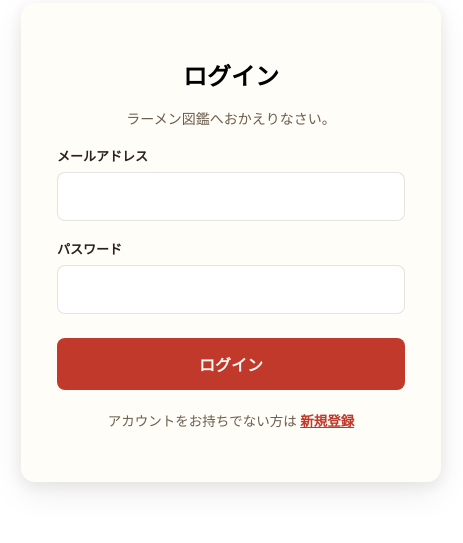
LoginPage › 認証に失敗するとエラーメッセージを表示する
Type "taro@example.com" into the field labelled "メールアドレス" at (231, 197), box top-left (57, 172), bottom-right (405, 221)
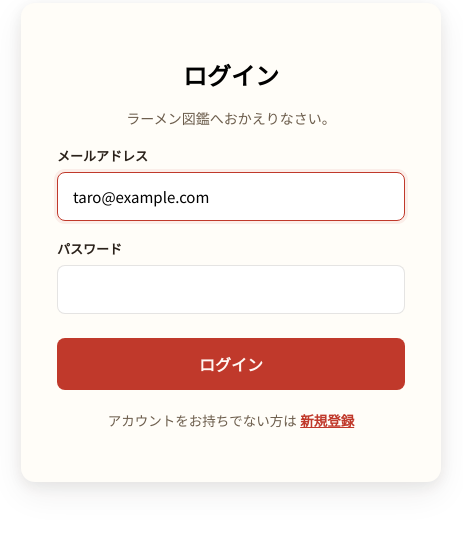
Type "wrong-pass" into the password field labelled "パスワード" at (231, 290), box top-left (57, 265), bottom-right (405, 314)
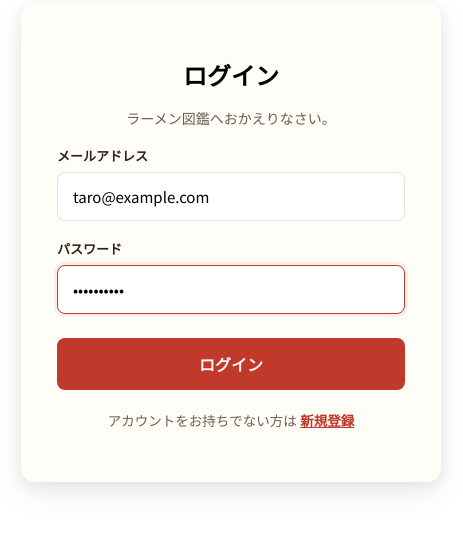
Click the button "ログイン" at (231, 364), box top-left (57, 338), bottom-right (405, 390)
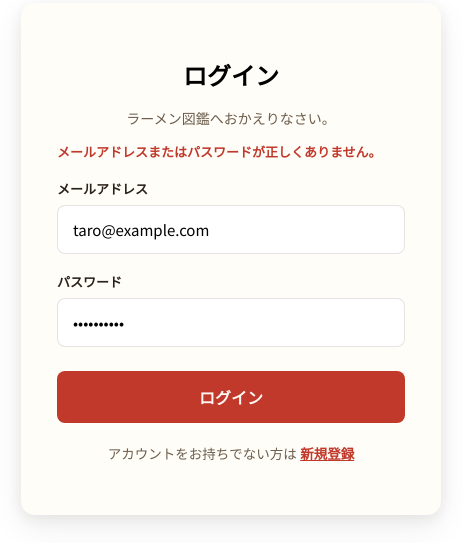
Check: the text "メールアドレスまたはパスワードが正しくありません。" is shown, box top-left (57, 142), bottom-right (405, 161)
